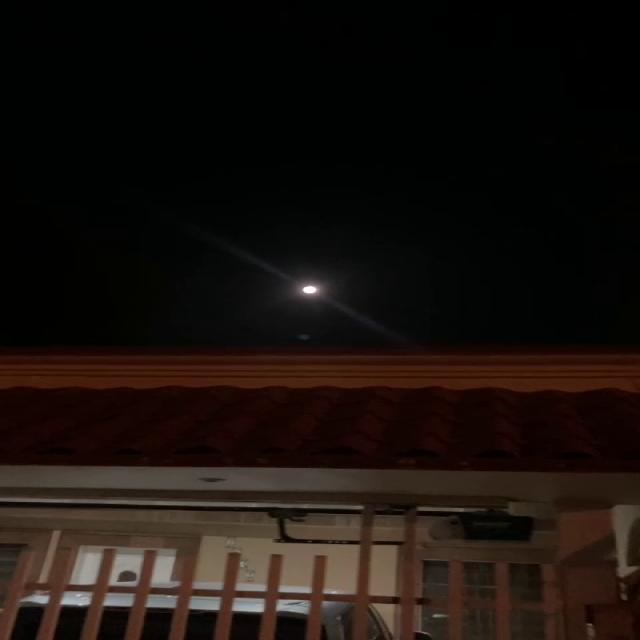moon: (292, 273, 326, 303)
